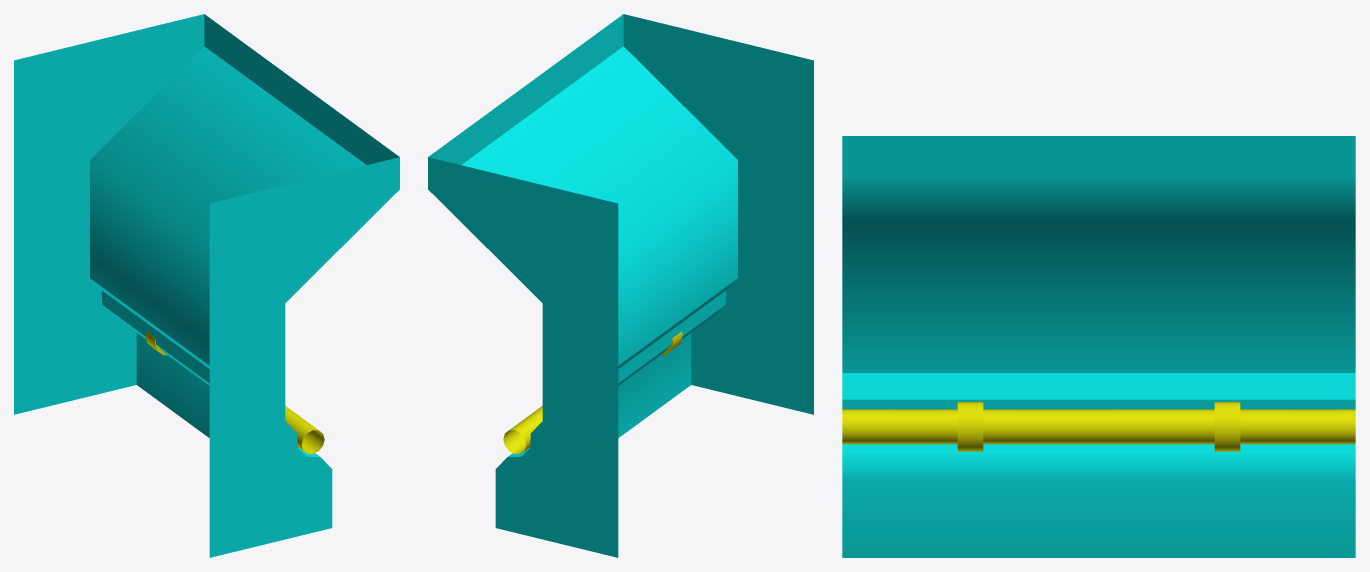
File: Low_PolyWall1.fbx
3 renders of one model, left to right at view 1: azimuth 30°, elevation 25°; view 2: azimuth 150°, elevation 25°; view 3: azimuth 270°, elevation 25°, orthographic. The views are drawn at different scales.
Parts seen in each view (by area): view 1: pPlane4; view 2: pPlane4; view 3: pPlane4.
Part boxes in pixels (x1,y1,x2,y2): pPlane4: (14, 14, 399, 557); pPlane4: (428, 14, 813, 557); pPlane4: (842, 136, 1355, 557).
Size of the model in its own units: 5.62 by 10 by 10.
